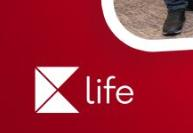Kapital Bank: (31, 63, 79, 114)
